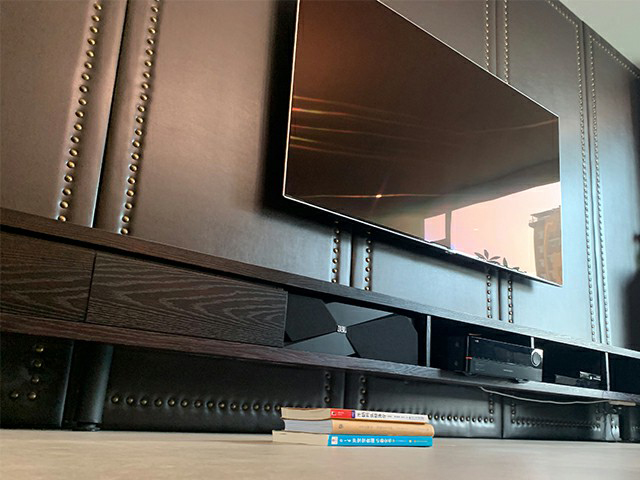book: (270, 406, 436, 449)
cabinet: (1, 211, 634, 434)
